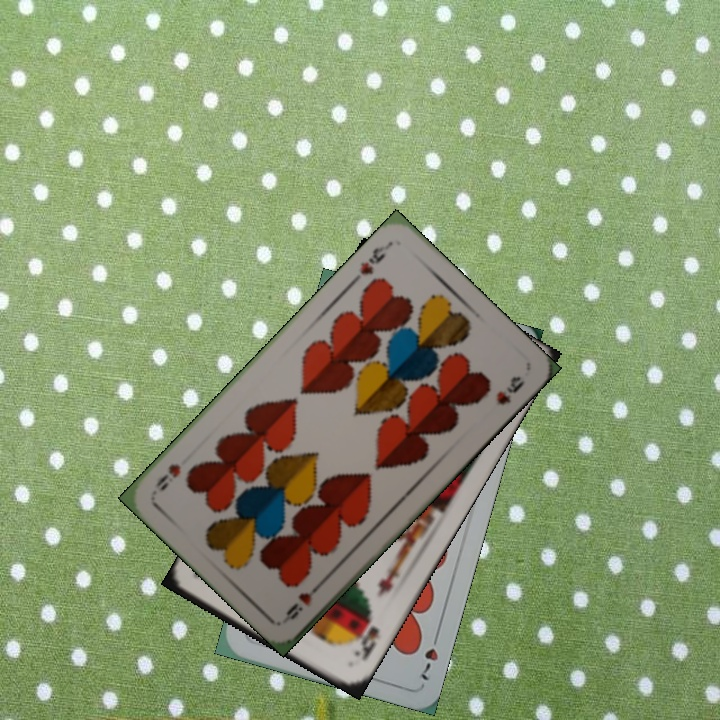H7: (417, 627, 443, 683)
H9: (281, 576, 327, 624), (348, 238, 394, 286)
SK: (349, 609, 384, 664)
